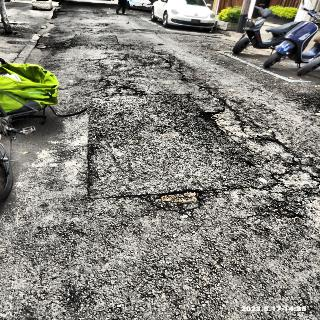crack: (196, 96, 320, 200)
pothole: (147, 184, 208, 211)
